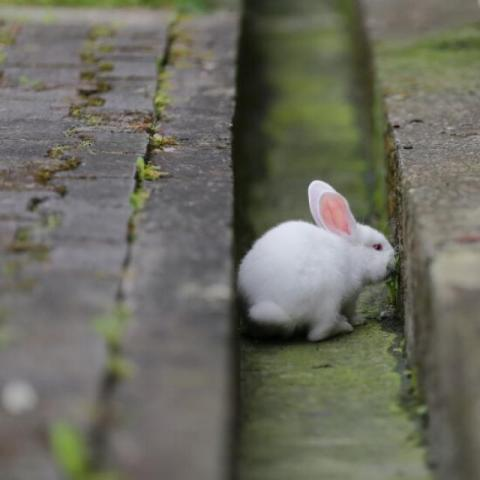small_animal: (236, 177, 396, 342)
